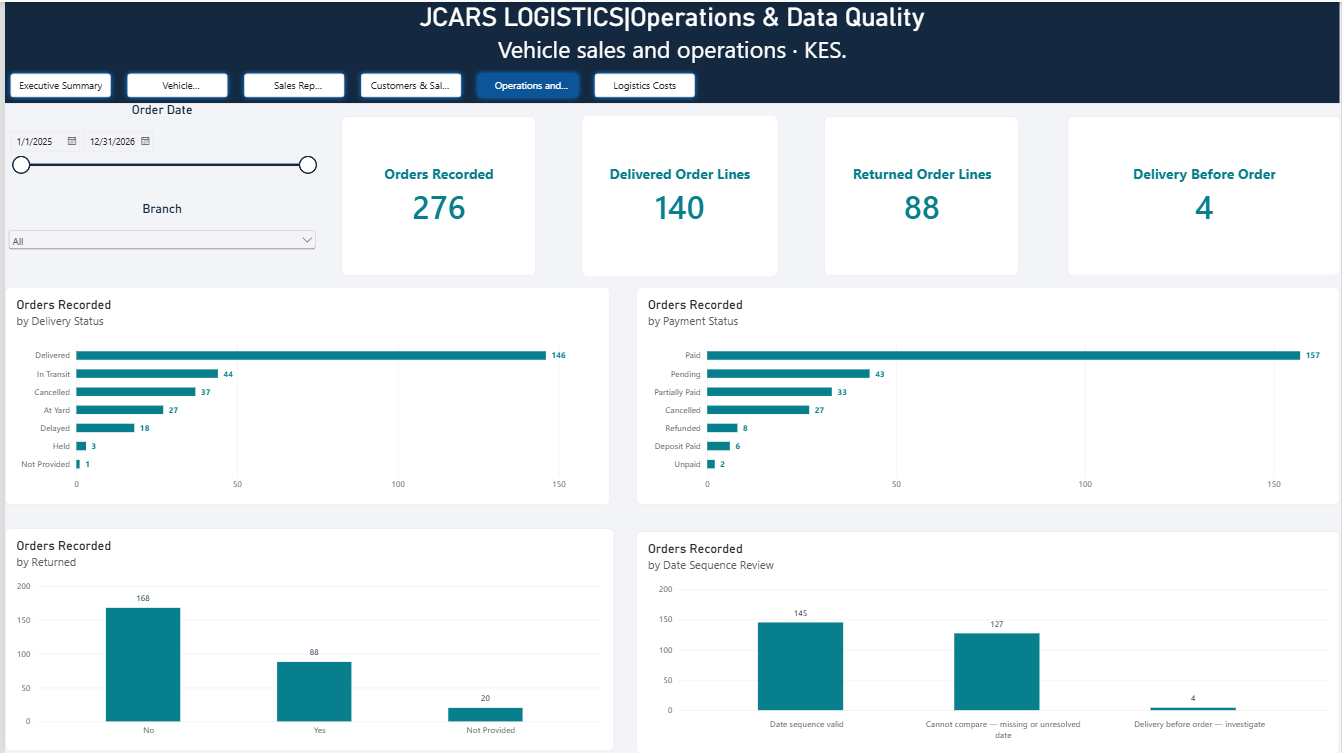

What the dashboard file says about the page in this screenshot:
{"tool":"powerbi","page":{"name":"Operations and Data Quality","canvas":[1920,1080],"ordinal":4},"visuals":[{"type":"shape","box":[0,0,1919.3,145.4],"z":0},{"type":"textbox","title":"JCARS LOGISTICS|Operations & Data Quality","box":[0,0,1919.3,90.9],"z":1000},{"type":"cardVisual","fields":{"Data":["Fact_Sales.Returned Order Lines"]},"box":[1178.8,163.5,280,230],"z":2000},{"type":"cardVisual","fields":{"Data":["Fact_Sales.Delivery Before Order"]},"box":[1526.3,163.5,393.2,229.7],"z":3000},{"type":"clusteredColumnChart","fields":{"Category":["Fact_Sales.Returned"],"Y":["Fact_Sales.Orders Recorded"]},"box":[0,757.9,876.3,319.7],"z":4000},{"type":"slicer","title":"Order Date ","fields":{"Values":["DimDate.Date"]},"box":[0,145.4,452,145.4],"z":5000},{"type":"slicer","title":"Branch","fields":{"Values":["DimBranch.Branch"]},"box":[0,286.2,452,72.7],"z":6000},{"type":"clusteredBarChart","fields":{"Category":["Fact_Sales.Delivery Status"],"Y":["Fact_Sales.Orders Recorded"]},"box":[0,408.8,869.9,313.4],"z":7000},{"type":"cardVisual","fields":{"Data":["Fact_Sales.Delivered Order Lines"]},"box":[831.3,163.5,280,230],"z":8000},{"type":"cardVisual","fields":{"Data":["Fact_Sales.Orders Recorded"]},"box":[483.8,163.5,280,230],"z":9000},{"type":"clusteredBarChart","fields":{"Y":["Fact_Sales.Orders Recorded"],"Category":["Fact_Sales.Payment Status"]},"box":[908.5,408.8,1010.7,313.4],"z":10000},{"type":"clusteredColumnChart","fields":{"Y":["Fact_Sales.Orders Recorded"],"Category":["Fact_Sales.Date Sequence Review"]},"box":[908.5,760.9,1010.7,320.3],"z":11000},{"type":"pageNavigator","box":[0,94.9,1000,50],"z":11001}]}

Visuals, with their boxes in screenshot pixels (x1, y1, x2, y2), scaled from the page's 1920x1080 canvas onto the 1342x753 screenshot:
shape: l=0, t=0, r=1341, b=101
"JCARS LOGISTICS|Operations & Data Quality" textbox: l=0, t=0, r=1341, b=63
cardVisual - Fact_Sales.Returned Order Lines: l=824, t=114, r=1020, b=274
cardVisual - Fact_Sales.Delivery Before Order: l=1067, t=114, r=1341, b=274
clusteredColumnChart - Fact_Sales.Returned x Fact_Sales.Orders Recorded: l=0, t=528, r=612, b=751
"Order Date " slicer: l=0, t=101, r=316, b=203
"Branch" slicer: l=0, t=200, r=316, b=250
clusteredBarChart - Fact_Sales.Delivery Status x Fact_Sales.Orders Recorded: l=0, t=285, r=608, b=504
cardVisual - Fact_Sales.Delivered Order Lines: l=581, t=114, r=777, b=274
cardVisual - Fact_Sales.Orders Recorded: l=338, t=114, r=534, b=274
clusteredBarChart - Fact_Sales.Orders Recorded x Fact_Sales.Payment Status: l=635, t=285, r=1341, b=504
clusteredColumnChart - Fact_Sales.Orders Recorded x Fact_Sales.Date Sequence Review: l=635, t=531, r=1341, b=752
pageNavigator: l=0, t=66, r=699, b=101
